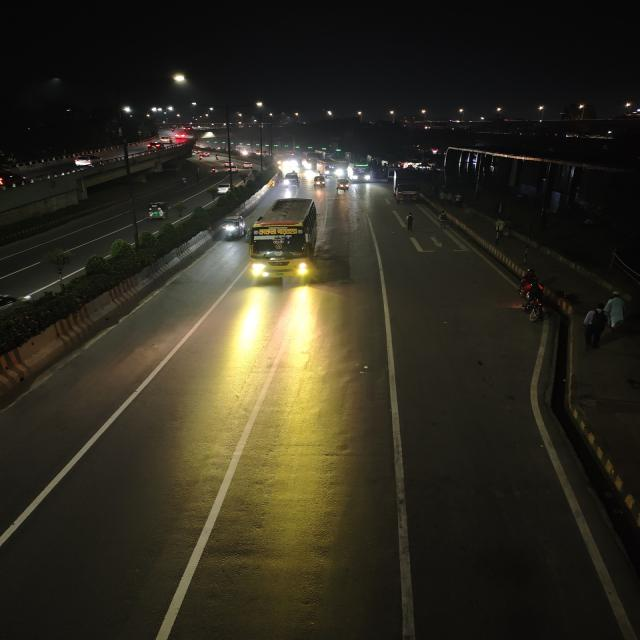bus: (248, 196, 322, 286), (348, 154, 374, 182), (319, 155, 347, 177)
car: (74, 156, 102, 168), (213, 182, 233, 196), (282, 172, 301, 186), (241, 160, 253, 170), (146, 143, 160, 151), (158, 138, 172, 144), (203, 151, 212, 158)
cng: (218, 212, 247, 242), (145, 199, 172, 221), (335, 178, 351, 192), (312, 174, 328, 188)
motorcycle: (512, 268, 553, 324)
pedestrian: (580, 304, 610, 349), (604, 289, 628, 332), (401, 210, 419, 236)
truck: (388, 168, 423, 204)
